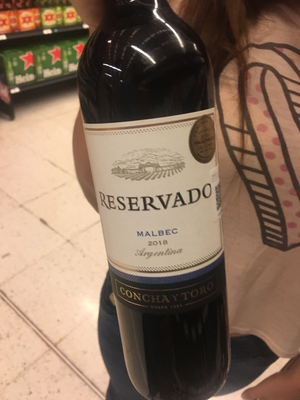reservado malbec: (69, 12, 258, 400)
